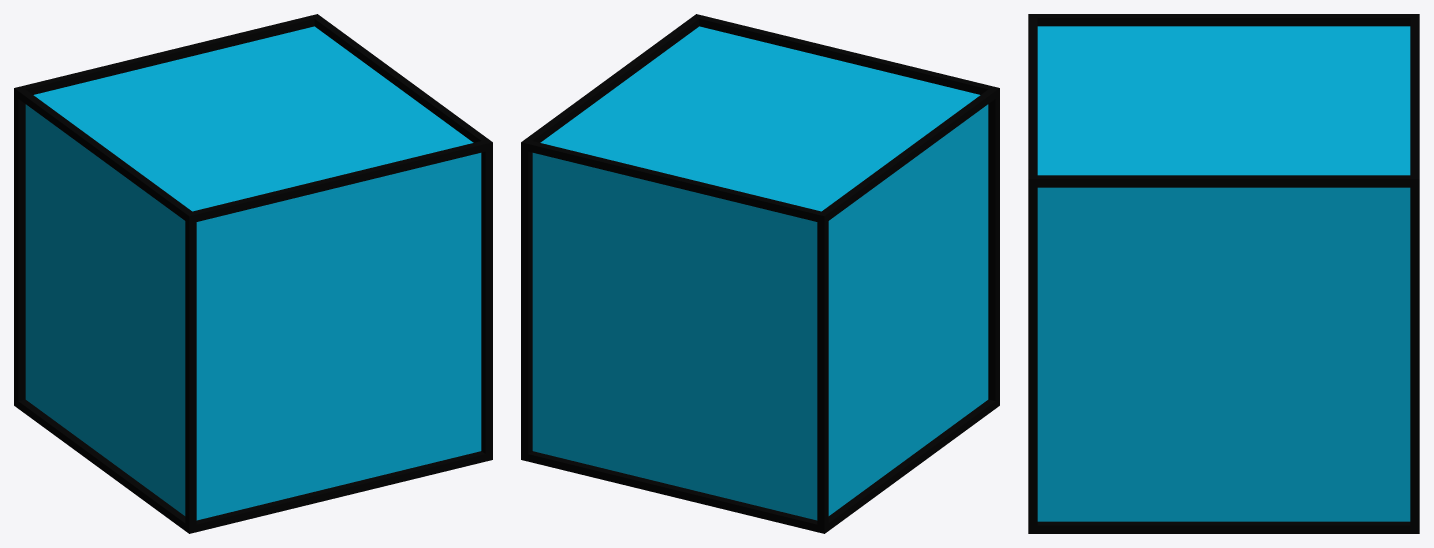
File: blueOutline.fbx
3 views of the same model, side by side, from view 1: azimuth 30°, elevation 25°; view 2: azimuth 150°, elevation 25°; view 3: azimuth 270°, elevation 25° (orthographic). The views are drawn at different scales.
Parts seen in each view (by area): view 1: blueOutline; view 2: blueOutline; view 3: blueOutline.
Part boxes in pixels (x1,y1,x2,y2): blueOutline: (14,14,492,533); blueOutline: (521,14,999,533); blueOutline: (1028,14,1419,533).
Bounding box in the file's own units: 1.05 × 1.05 × 1.05.
